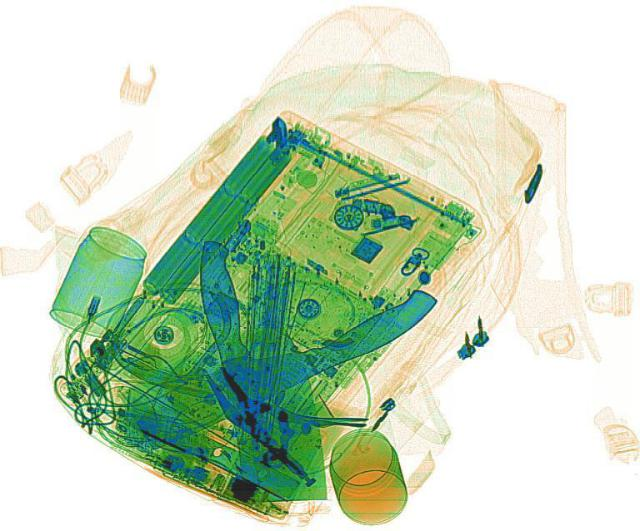Knife: (129, 279, 447, 451), (187, 234, 329, 505)
